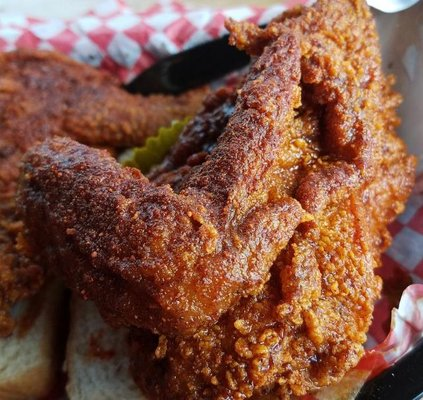soup: (4, 2, 420, 394)
